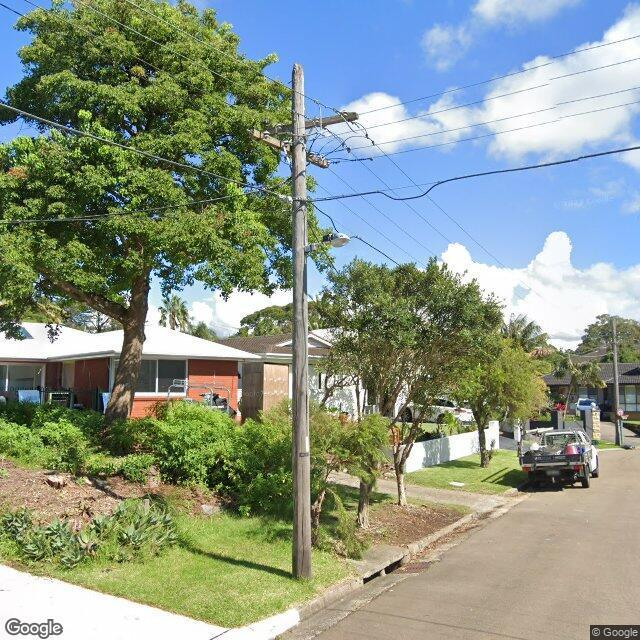crossarm: (250, 129, 329, 169), (264, 112, 360, 134)
streetlight: (304, 234, 351, 252)
timber-pole: (293, 63, 311, 581), (610, 317, 623, 446)
